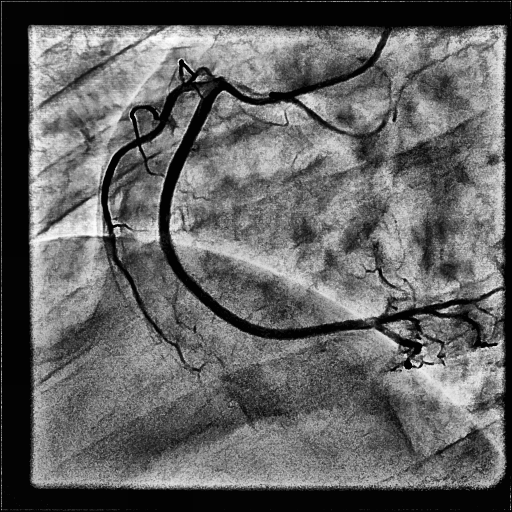pborca: (370, 287, 505, 324)
pda: (373, 325, 421, 369)
rca: (159, 78, 384, 340)
